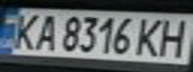1: (97, 15, 118, 54)
3: (78, 14, 100, 53)
6: (112, 15, 139, 56)
8: (57, 12, 81, 53)
A: (30, 11, 60, 52)
H: (154, 16, 193, 57)
K: (6, 10, 45, 52), (133, 15, 169, 57)
